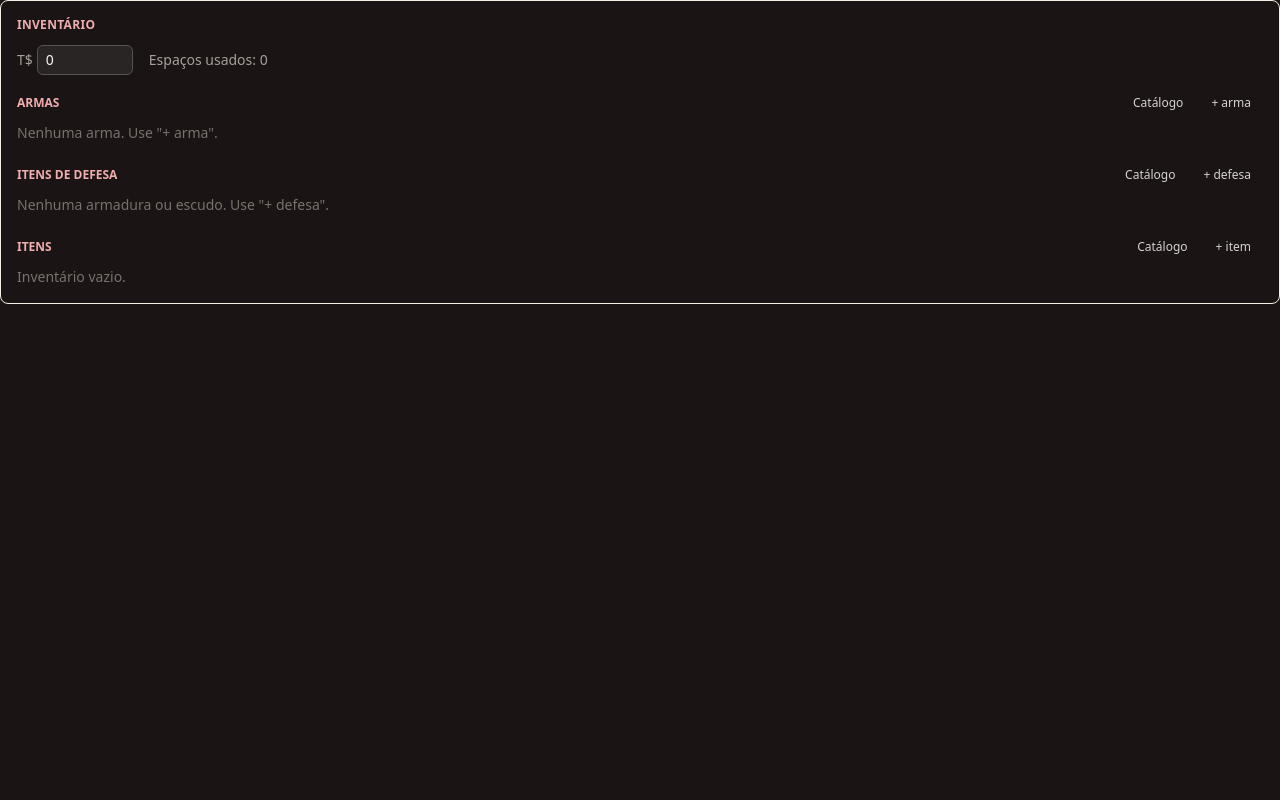
it: InventoryPanel — catálogo em modal › fecha o modal pelo ✕ sem adicionar nada
The width and height of the screenshot is (1280, 800).
Click the button "Catálogo" in the row of "Armas" at (1158, 103), box [1121, 87, 1195, 119]
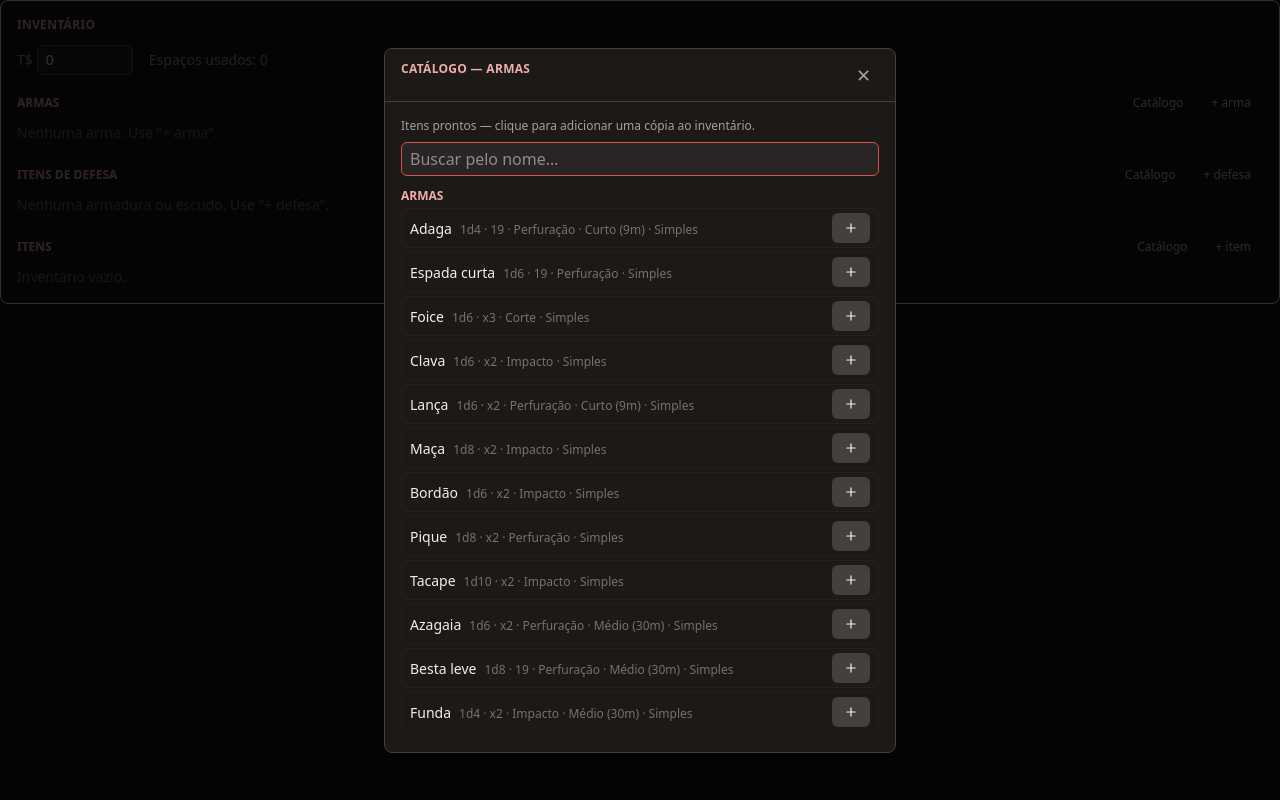
Click the button named "Fechar" at (863, 74), box [848, 66, 879, 84]
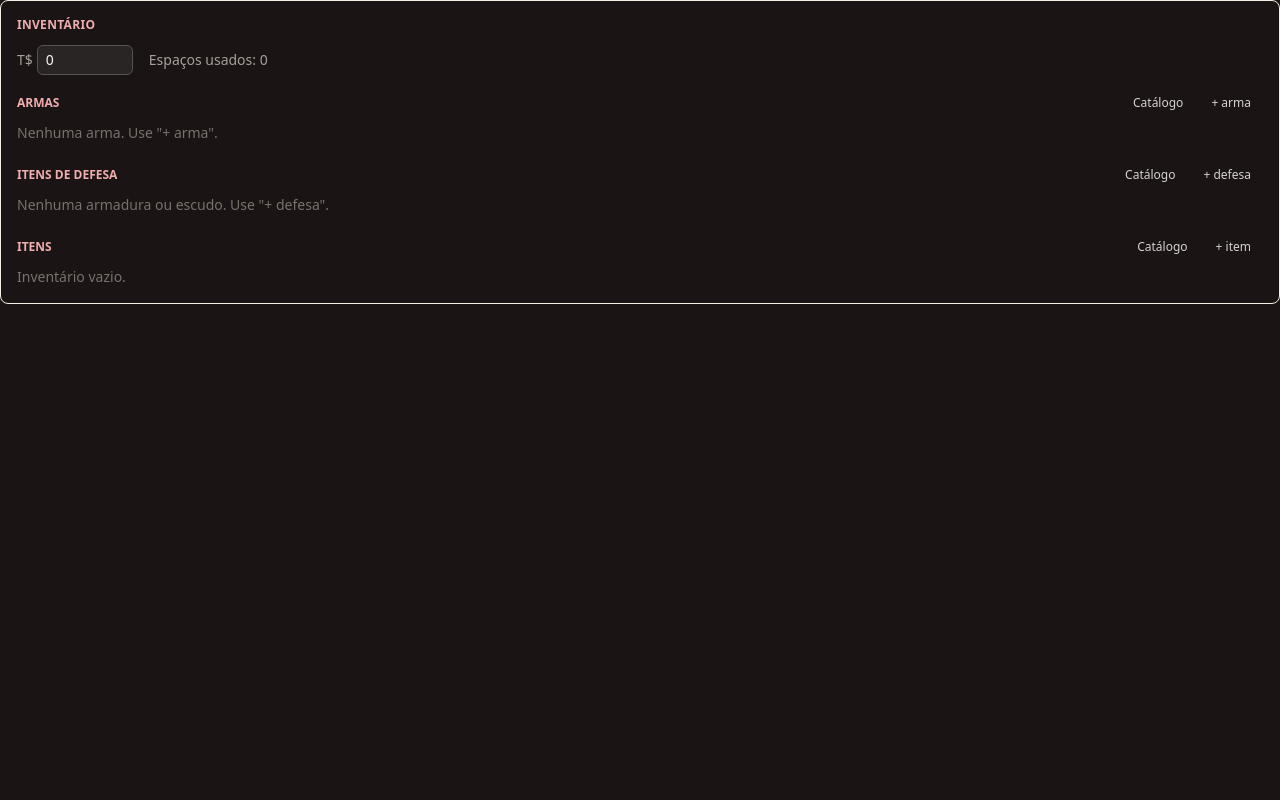
expect the dialog is gone: met
